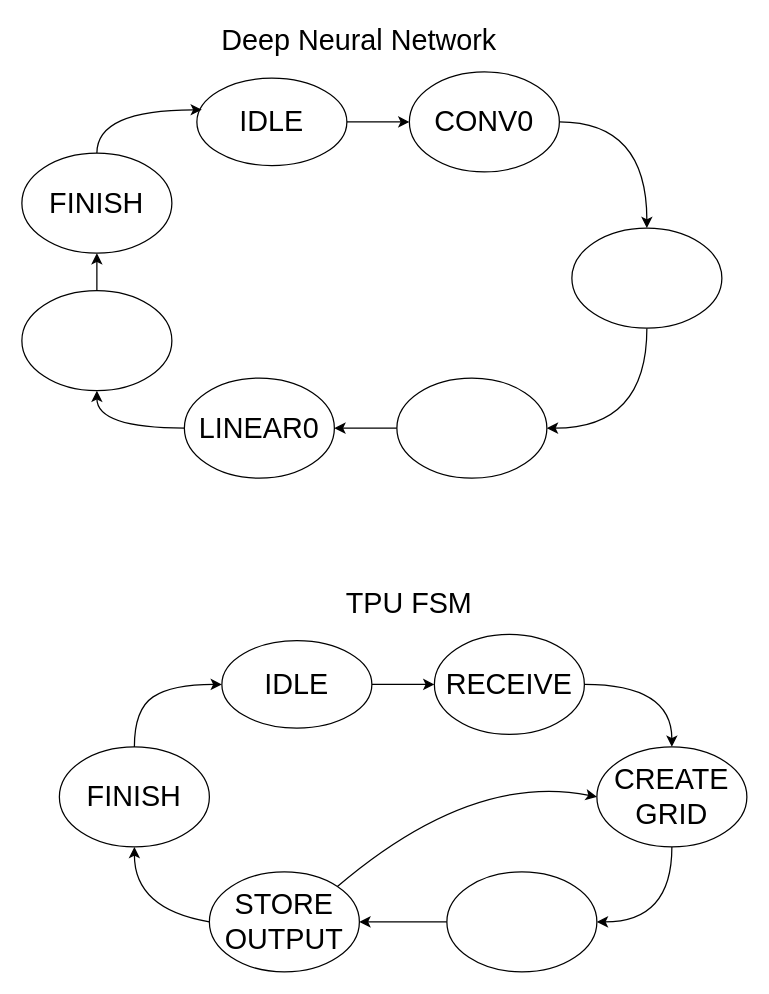
Some shapes in this 769 by 994 pixel diagram are drawn without their labels. The centre of each missing label's shape, as x and y in pixels:
"CONV1" goes at (646,277).
"CONV2" goes at (471,427).
"DNN" goes at (521,921).
"LINEAR1" goes at (96,340).
